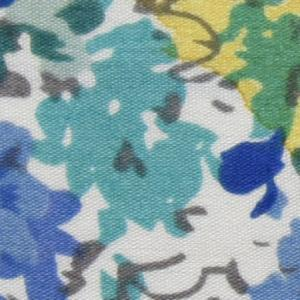Oil Stain: (130, 1, 300, 166)
